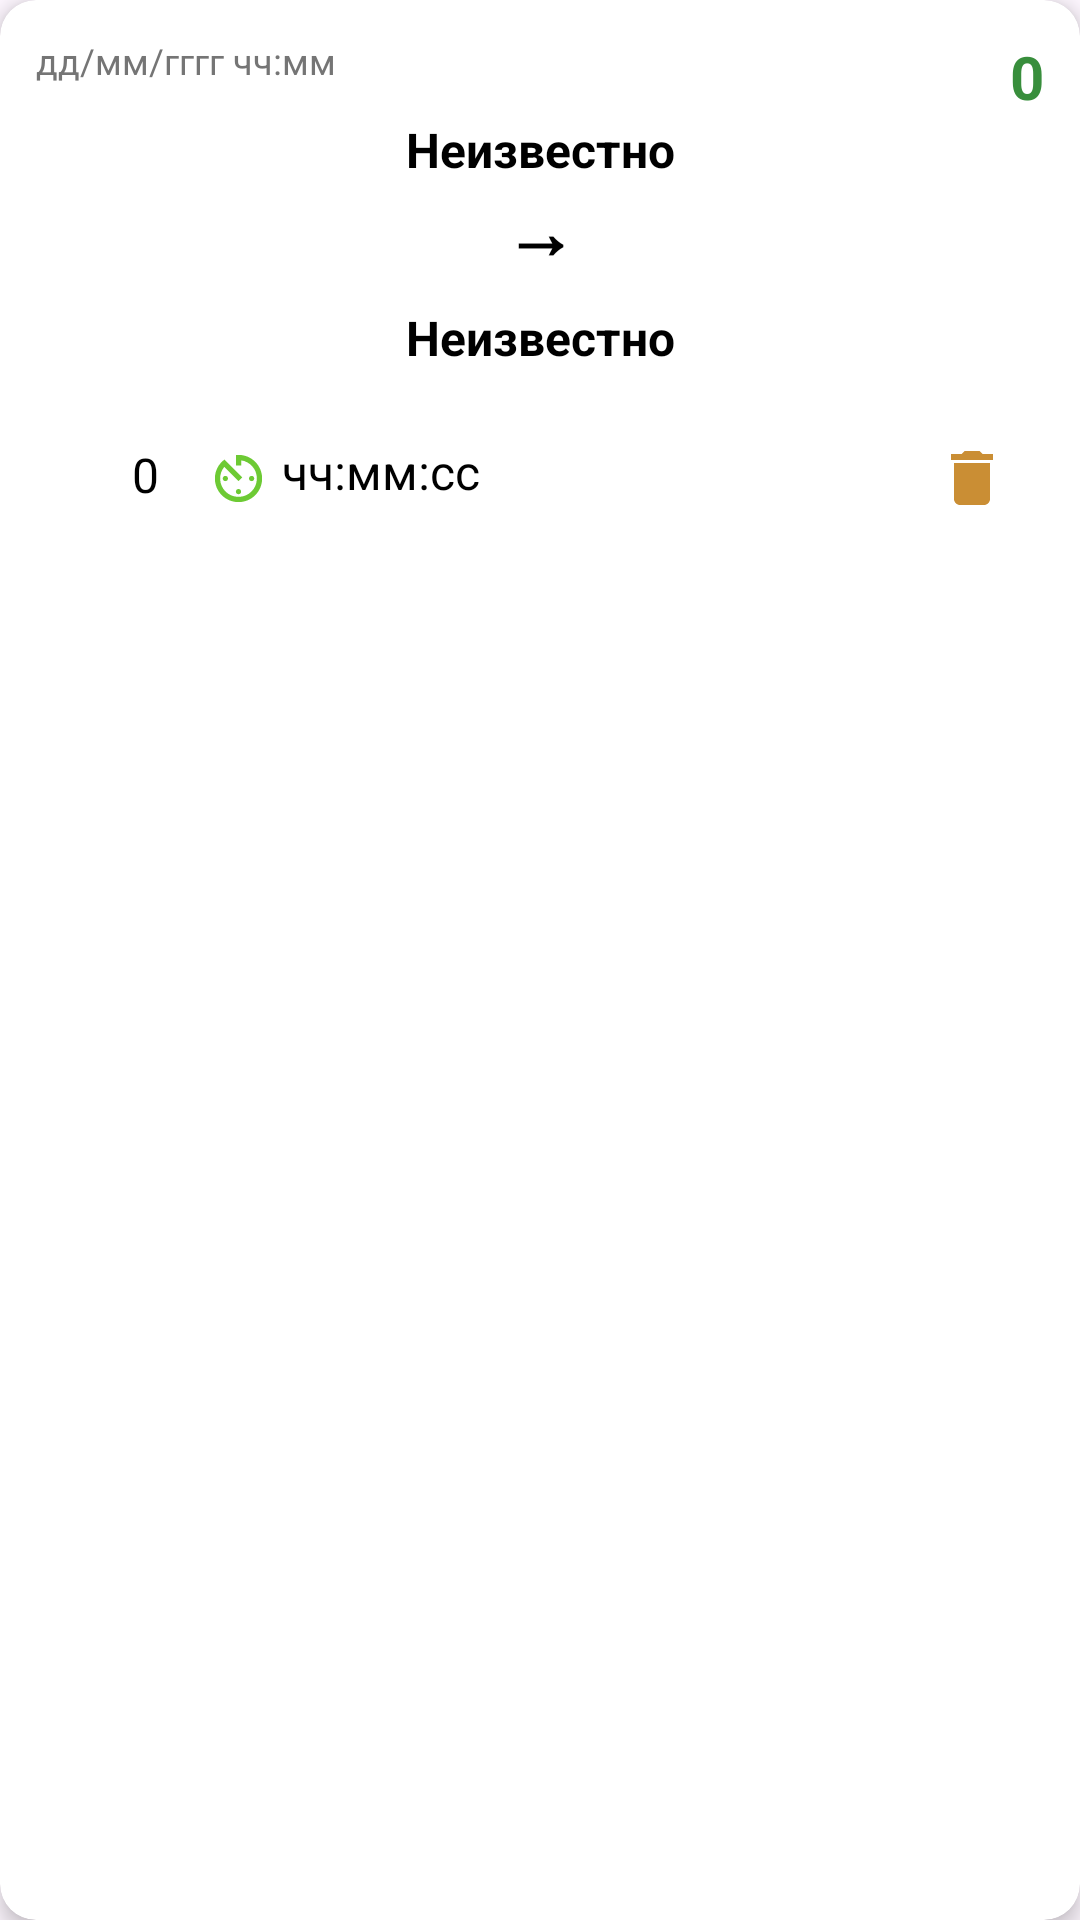

Icons on this 1080*1920 Android screen, each with its box as (x1, y1, x2, y2):
delete: (951, 451, 993, 505)
time: (215, 455, 262, 502)
